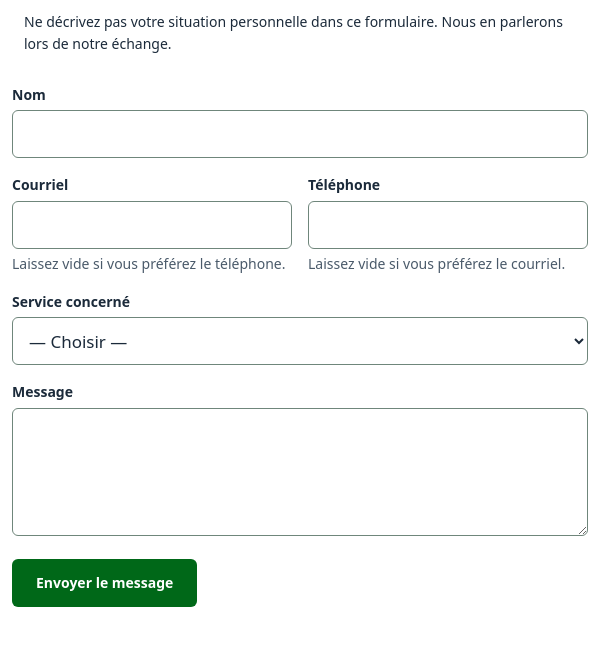
Test case: ContactForm › affiche une erreur si message trop court
This screenshot has width=607, height=650.
Type "Jean" into the field labelled "Nom". click: (300, 134)
box: [12,110,588,158]
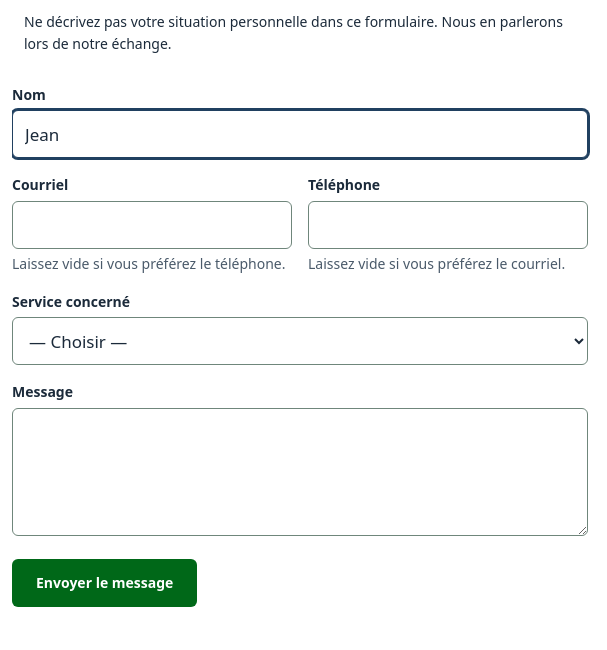
Type "jean@example.com" into the field labelled "Courriel". click: (152, 225)
box: [12,201,292,249]
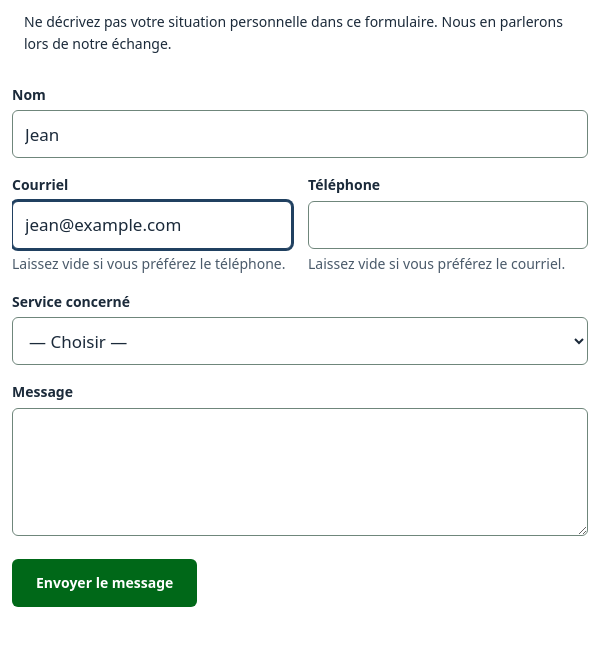
Type "court" into the text box labelled "Message". click: (300, 472)
box: [12,408,588,536]
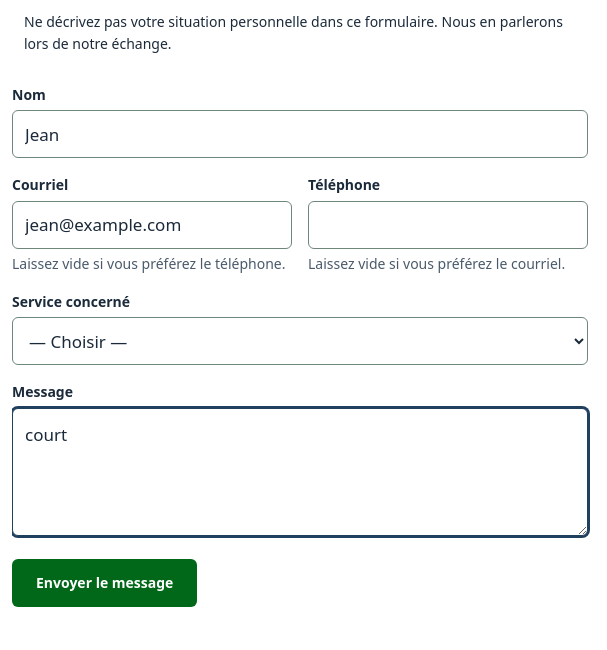
Click the button "Envoyer le message". click: (105, 583)
box: [12,559,197,607]
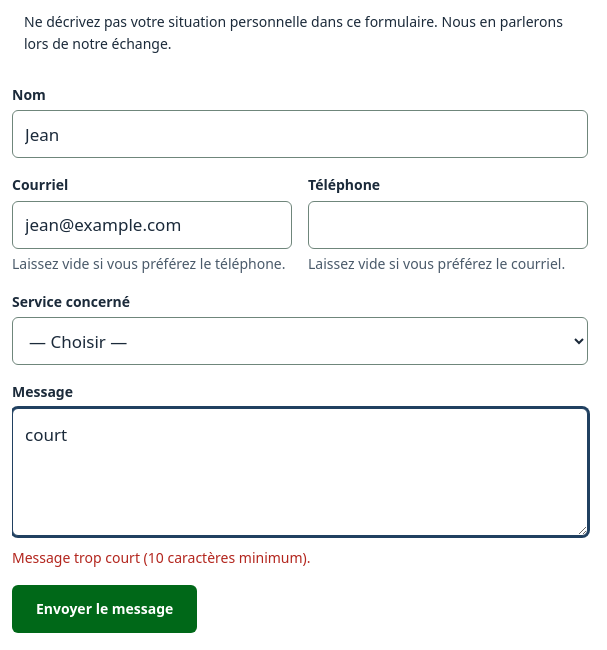
Now the text "Message trop court (10 caractères minimum)." is shown, box [12,548,311,567]
